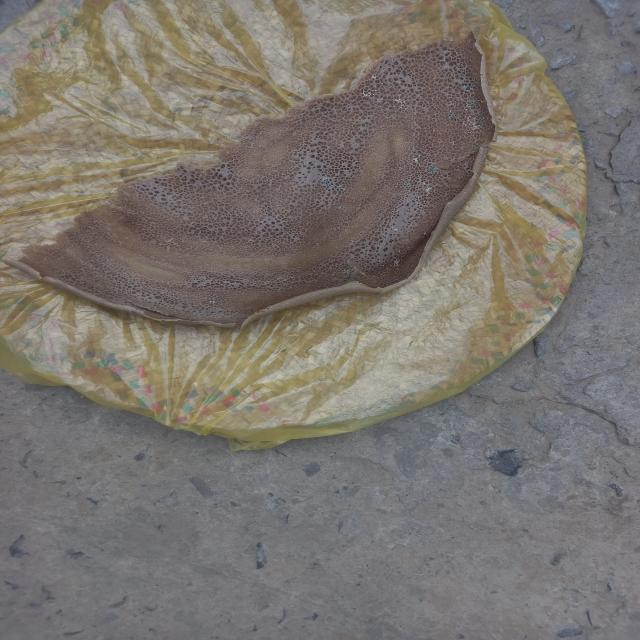injera_mold: (462, 117, 481, 133), (391, 94, 408, 110), (463, 99, 480, 110), (358, 88, 378, 97), (422, 182, 433, 196), (426, 165, 440, 174), (392, 258, 401, 268), (322, 178, 332, 186), (465, 82, 473, 90), (342, 269, 352, 275), (338, 185, 346, 191), (449, 112, 457, 118), (459, 76, 467, 81), (337, 206, 346, 210), (372, 74, 378, 80), (208, 300, 216, 304), (479, 112, 485, 117), (482, 123, 488, 128), (403, 184, 410, 188), (372, 152, 378, 156), (413, 158, 419, 161), (444, 51, 450, 54), (393, 228, 398, 231), (398, 167, 402, 170), (423, 232, 427, 235), (418, 155, 421, 157), (399, 250, 401, 252)
